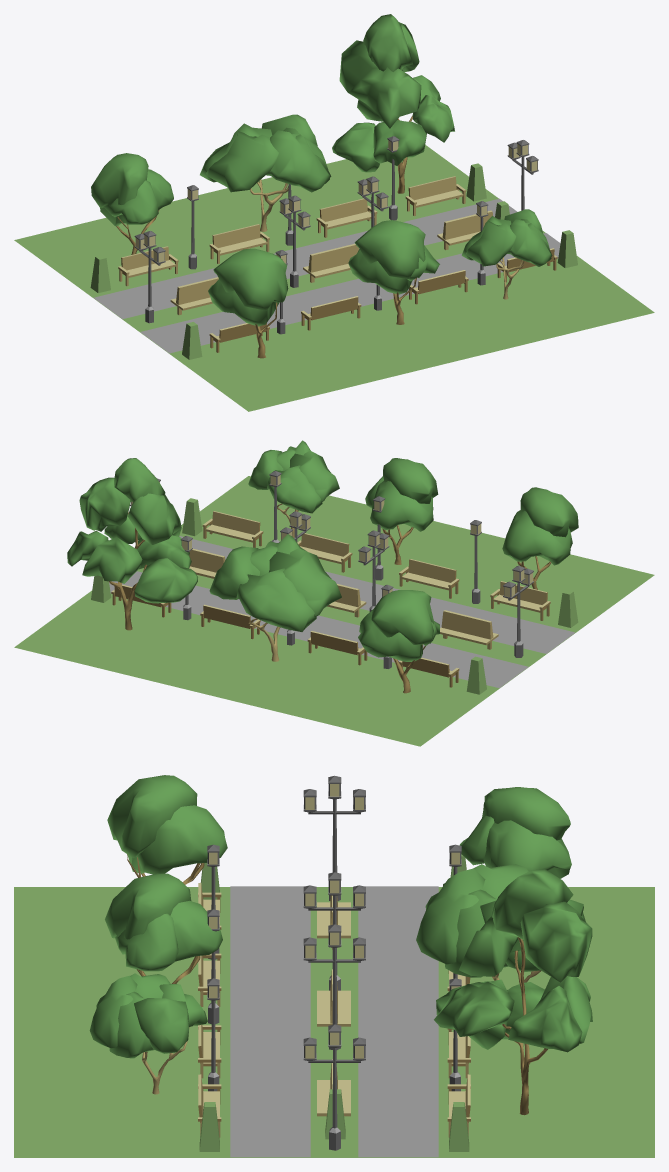
The model's file is park2.glb.
3 views of the same model, one above another, from view 1: azimuth 30°, elevation 25°; view 2: azimuth 150°, elevation 25°; view 3: azimuth 270°, elevation 25° (orthographic). The views are drawn at different scales.
Parts seen in each view (by area): view 1: park; view 2: park; view 3: park.
Boxes of the visible parts, box(x1,y1,x2,y2) form: park: box(14, 14, 654, 411); park: box(14, 440, 654, 746); park: box(14, 775, 654, 1157).
Size of the model in its own units: 16 by 6.61 by 16.
Materials: 1 (1 with a texture image).
